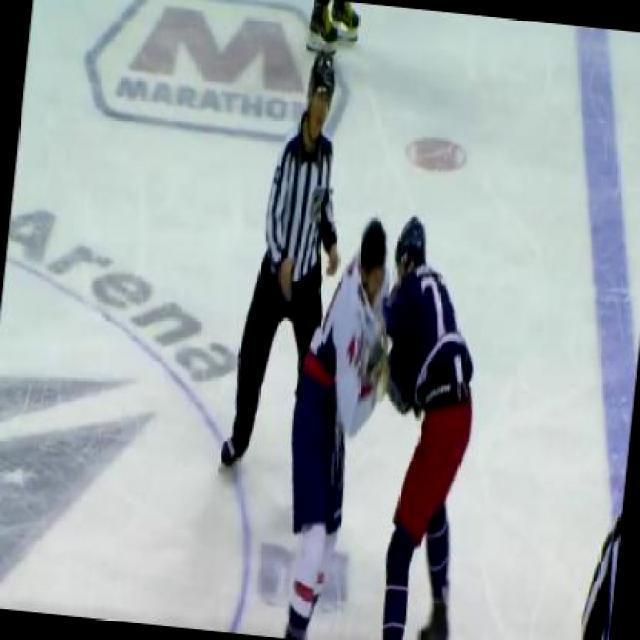fight: (264, 200, 500, 638)
